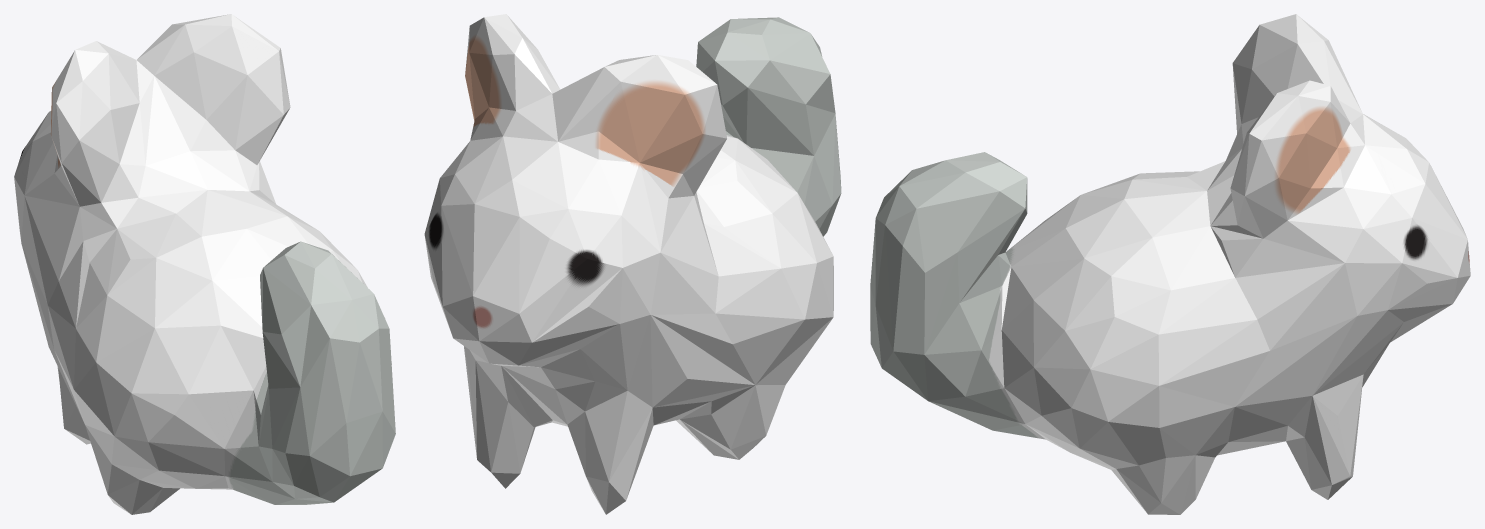
File: animal_chinchilla_blob.obj
3 renders of one model, left to right at view 1: azimuth 30°, elevation 25°; view 2: azimuth 150°, elevation 25°; view 3: azimuth 270°, elevation 25°, orthographic. The views are drawn at different scales.
Parts seen in each view (by area): view 1: animal_chinchilla_blob; view 2: animal_chinchilla_blob; view 3: animal_chinchilla_blob.
Boxes of the visible parts, x1=… form: animal_chinchilla_blob: x1=14, y1=14, x2=395, y2=514; animal_chinchilla_blob: x1=424, y1=14, x2=841, y2=514; animal_chinchilla_blob: x1=870, y1=14, x2=1470, y2=514.
Bounding box in the file's own units: 0.3723 × 0.5151 × 0.6602.
